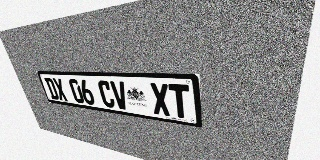0: (68, 79, 85, 104)
6: (78, 79, 96, 105)
C: (97, 80, 116, 108)
D: (44, 78, 60, 100)
T: (168, 84, 191, 119)
V: (110, 81, 129, 110)
X: (149, 83, 171, 116), (52, 78, 68, 101)
